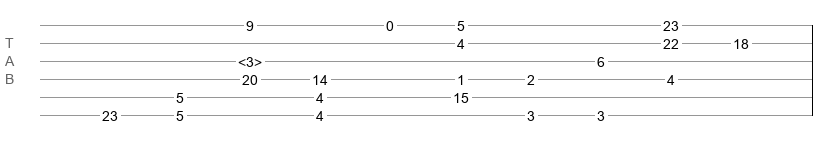0: (386, 18, 394, 28)
1: (457, 72, 465, 82)
14: (312, 72, 328, 82)
15: (453, 90, 469, 100)
18: (733, 36, 749, 46)
2: (527, 72, 535, 82)
20: (242, 72, 258, 82)
22: (663, 36, 679, 46)
23: (102, 108, 118, 118), (663, 18, 679, 28)
3: (527, 108, 535, 118), (597, 108, 605, 118)
4: (316, 90, 324, 100), (316, 108, 324, 118), (457, 36, 465, 46), (667, 72, 675, 82)
5: (176, 90, 184, 100), (176, 108, 184, 118), (457, 18, 465, 28)
6: (597, 54, 605, 64)
9: (246, 18, 254, 28)
harmonic: (238, 54, 262, 64)
